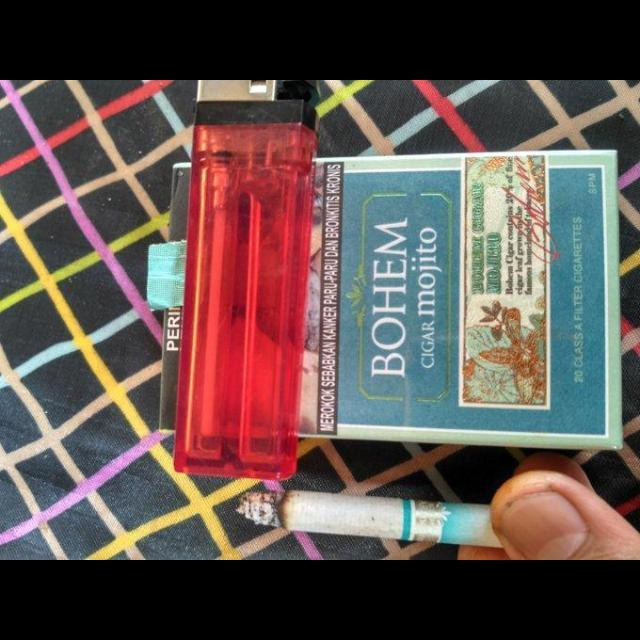rokok: (234, 486, 506, 552)
